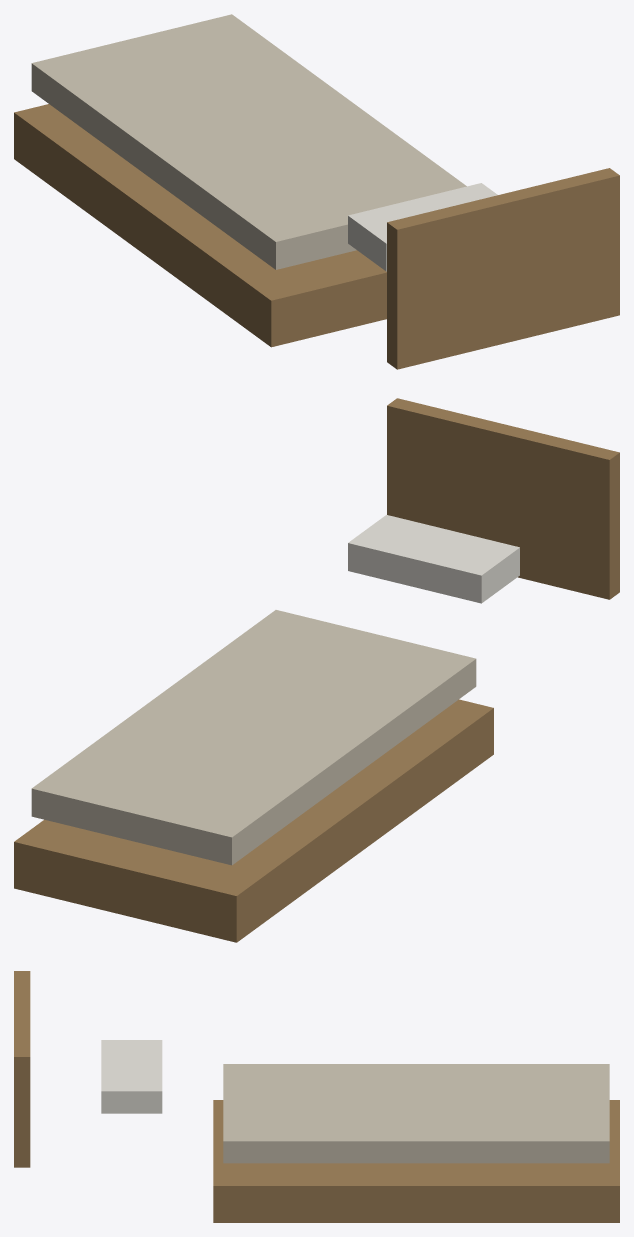
File: inn_bed_1.glb
3 renders of one model, top to bottom at view 1: azimuth 30°, elevation 25°; view 2: azimuth 150°, elevation 25°; view 3: azimuth 270°, elevation 25°, orthographic. The views are drawn at different scales.
Parts seen in each view (by area): view 1: inn_bed_1_mattress, inn_bed_1_headboard, inn_bed_1_frame, inn_bed_1_pillow; view 2: inn_bed_1_mattress, inn_bed_1_frame, inn_bed_1_headboard, inn_bed_1_pillow; view 3: inn_bed_1_mattress, inn_bed_1_frame, inn_bed_1_pillow, inn_bed_1_headboard.
Boxes of the visible parts, x1,y1,x2,y2 form: inn_bed_1_mattress: [31, 14, 466, 269]; inn_bed_1_headboard: [387, 168, 619, 369]; inn_bed_1_frame: [14, 104, 386, 347]; inn_bed_1_pillow: [348, 183, 497, 271]; inn_bed_1_mattress: [31, 610, 476, 865]; inn_bed_1_frame: [14, 699, 493, 942]; inn_bed_1_headboard: [387, 398, 619, 599]; inn_bed_1_pillow: [348, 515, 519, 603]; inn_bed_1_mattress: [223, 1064, 609, 1163]; inn_bed_1_frame: [213, 1100, 619, 1222]; inn_bed_1_pillow: [101, 1040, 162, 1113]; inn_bed_1_headboard: [14, 971, 30, 1167].
Bounding box in the file's own units: 0.5 × 0.45 × 1.49.
